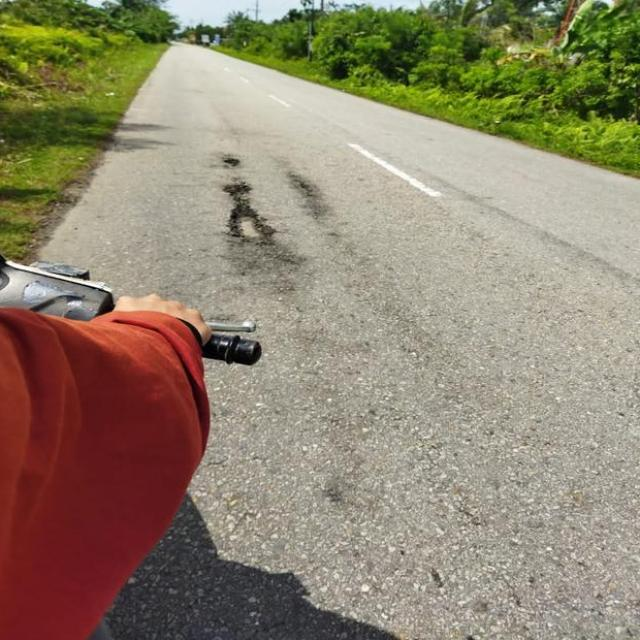Lubang: (223, 183, 269, 242)
